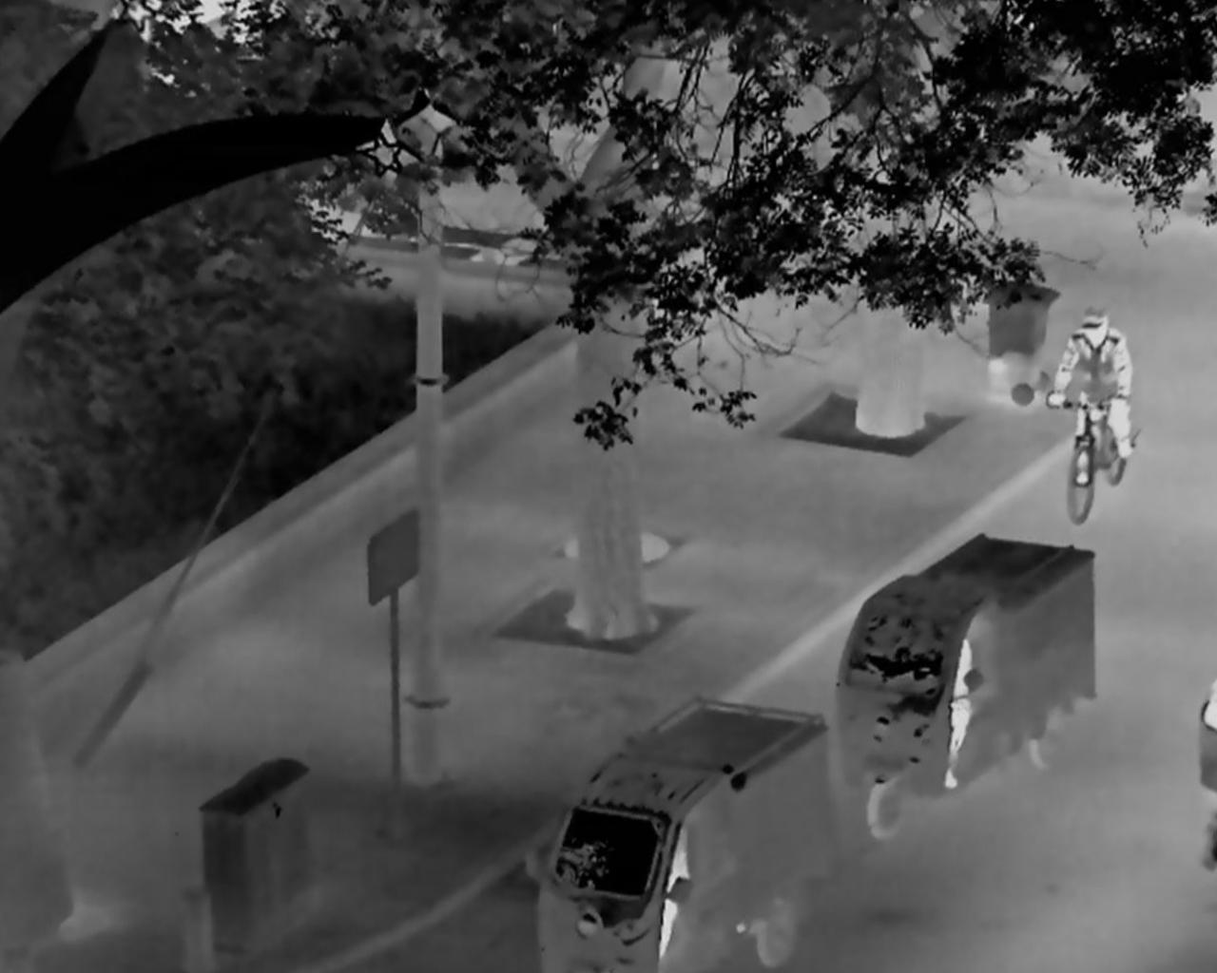person: (1048, 305, 1135, 484), (939, 636, 973, 790), (654, 847, 692, 961)
